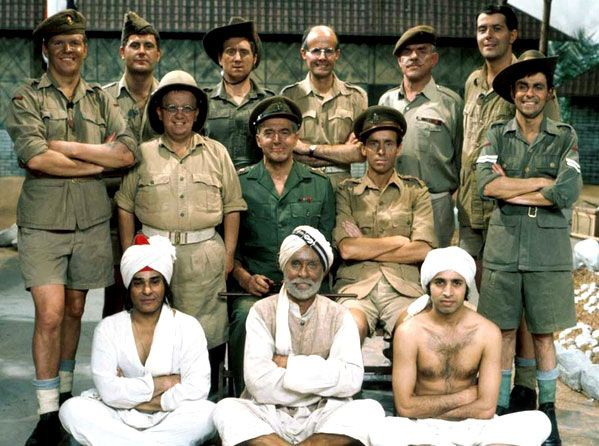bad: (280, 252, 323, 295), (429, 274, 465, 310), (473, 18, 509, 54), (161, 98, 197, 134), (513, 78, 549, 114), (361, 134, 397, 170), (257, 122, 293, 158), (217, 42, 253, 78), (129, 274, 165, 310), (121, 34, 157, 70), (49, 34, 85, 70), (397, 42, 433, 78), (305, 42, 341, 78)
